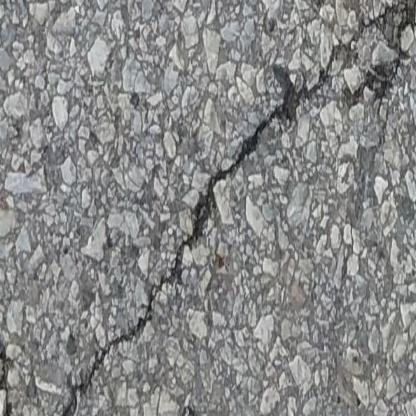Cracks: (59, 0, 416, 416), (0, 287, 18, 416)
